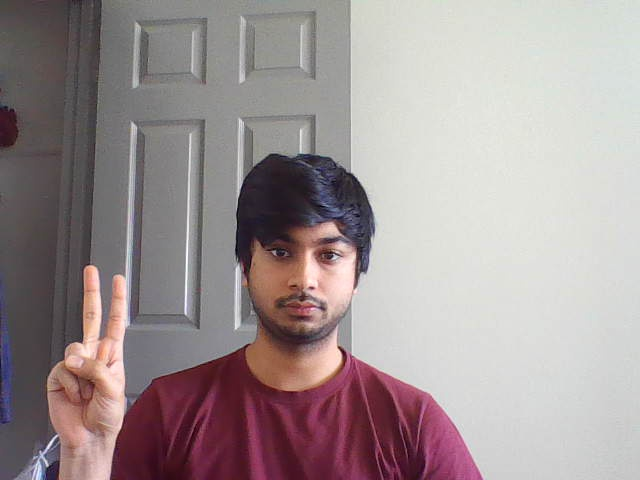two: (70, 260, 141, 355)
